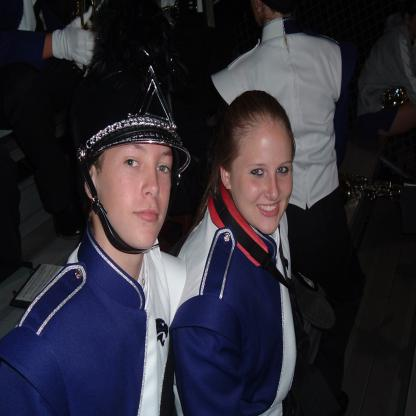Helmet: (67, 90, 191, 262)
